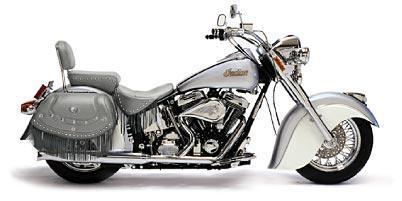motorcycle: (17, 4, 384, 189)
